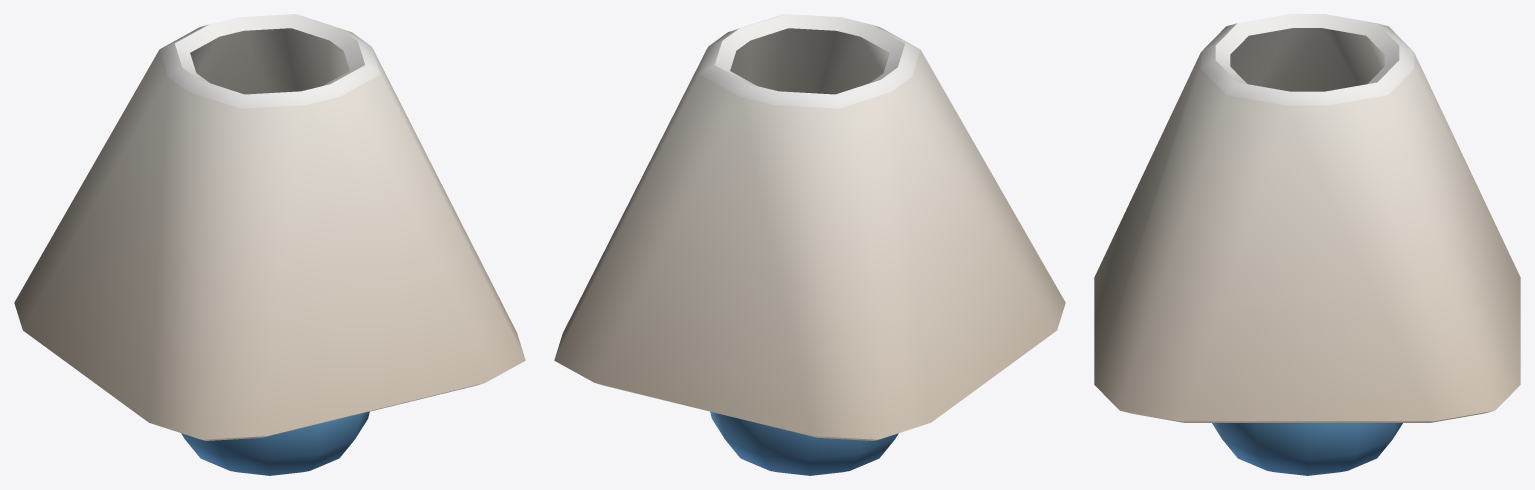
The model's file is table-lamp.glb.
3 renders of one model, left to right at view 1: azimuth 30°, elevation 25°; view 2: azimuth 150°, elevation 25°; view 3: azimuth 270°, elevation 25°, orthographic.
Visible parts, largest first — view 1: lamp_table; view 2: lamp_table; view 3: lamp_table.
Part boxes in pixels (x1=…): lamp_table: x1=14, y1=14, x2=525, y2=475; lamp_table: x1=554, y1=14, x2=1065, y2=475; lamp_table: x1=1094, y1=14, x2=1520, y2=475.
Bounding box in the file's own units: 1 × 1.02 × 1.
1 material, 1 textured.
